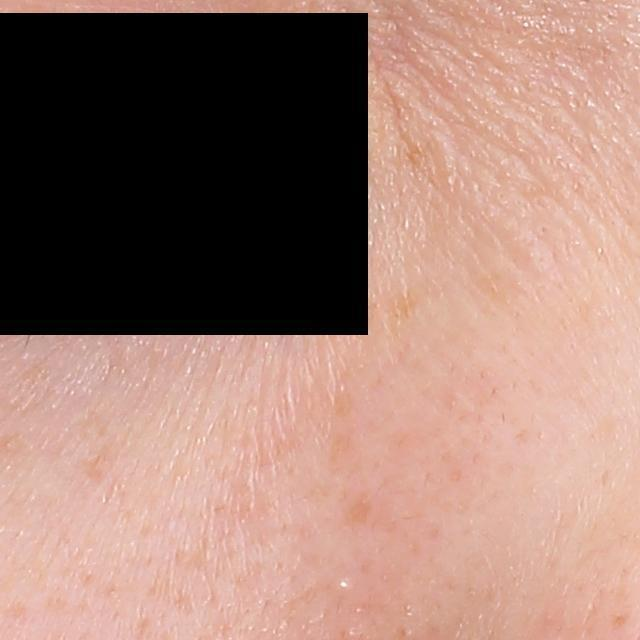melasma: (79, 435, 128, 485), (343, 492, 383, 532)
